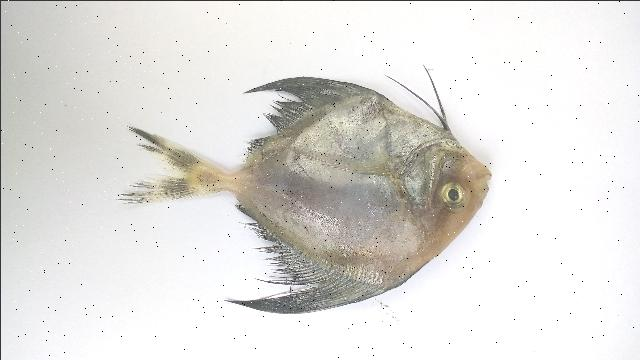Mulut: (468, 147, 512, 219)
Sirip Anal: (218, 94, 314, 174)
Sirip Dada: (290, 135, 420, 185)
Sirip Ekor: (102, 112, 224, 218)
Sirip Perut: (230, 64, 390, 106)
Sirip Punggung: (218, 190, 394, 330)
